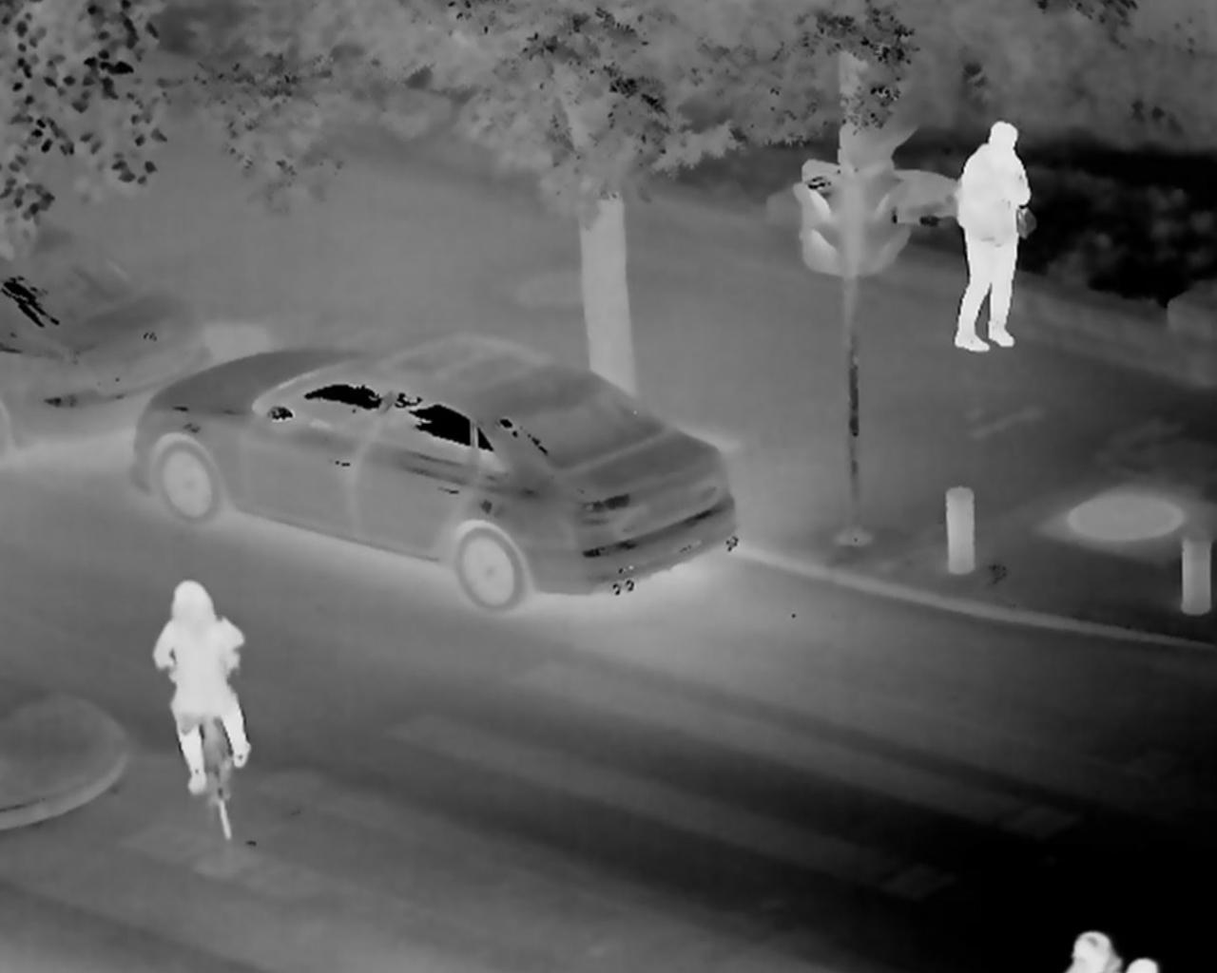person: (155, 572, 267, 840), (946, 114, 1039, 357), (1029, 916, 1178, 973)
